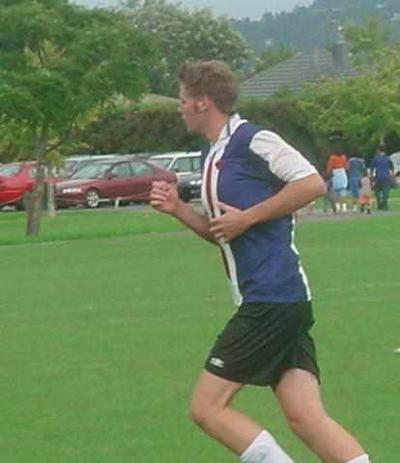person: (151, 58, 371, 463)
